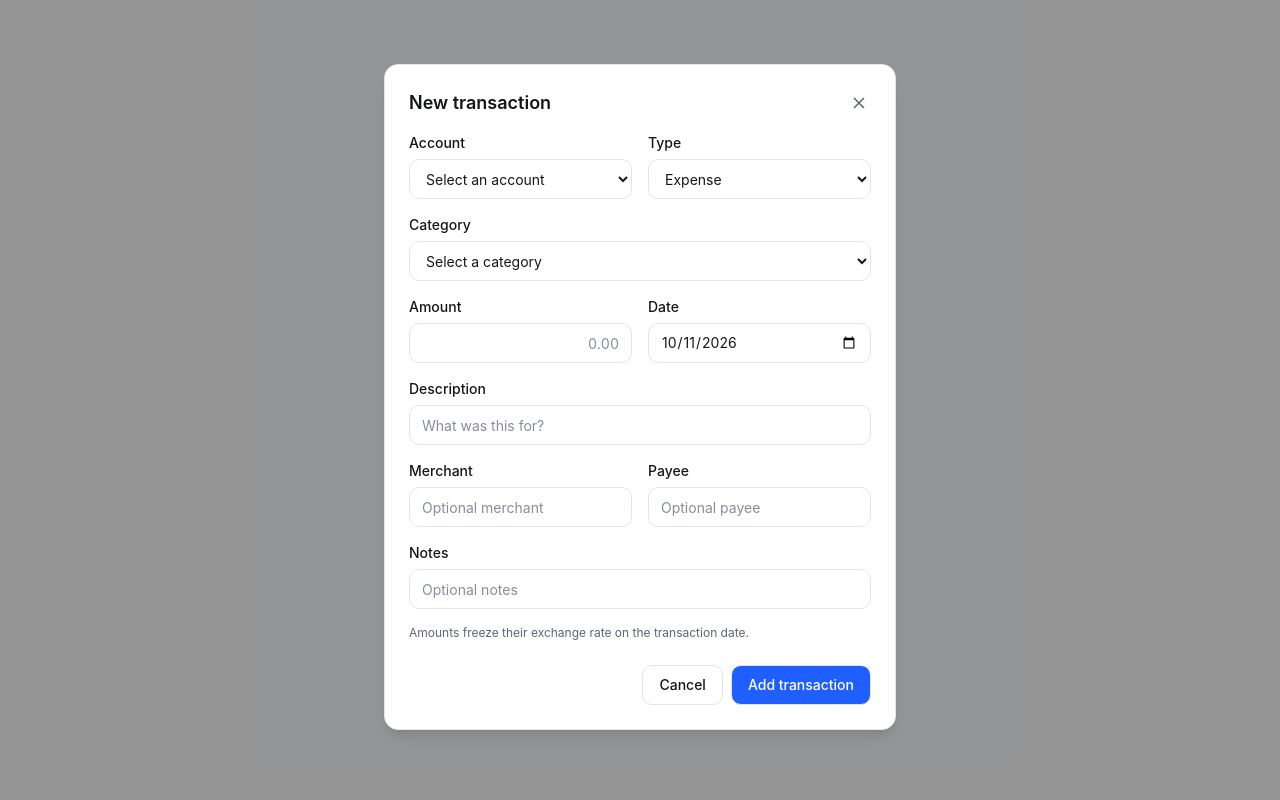
Test: TransactionFormModal category dropdown › hides the category dropdown for adjustments
Expected: the dropdown labelled "Category" is shown, [409, 241, 871, 281]
Select "Adjustment" in the dropdown labelled "Type" at (760, 179), box [648, 159, 871, 199]
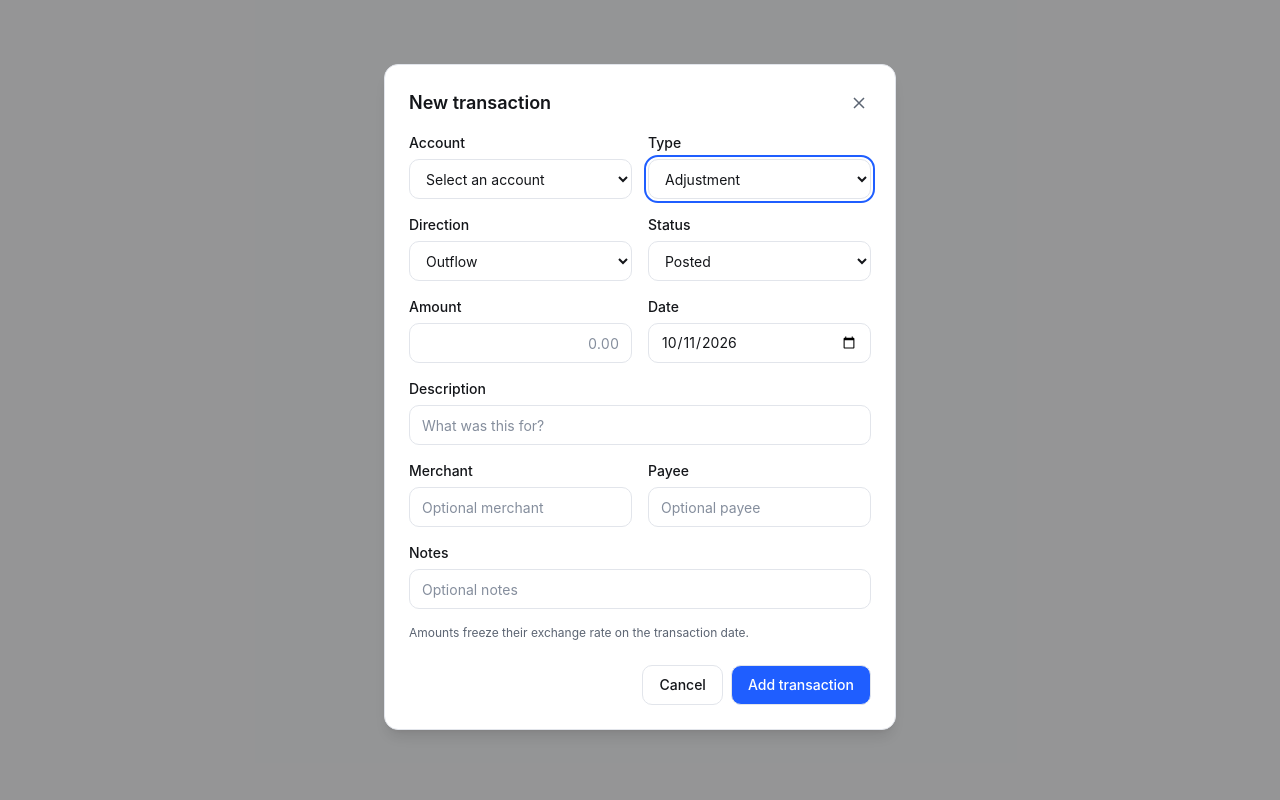
Result: the label labelled "Category" is gone
